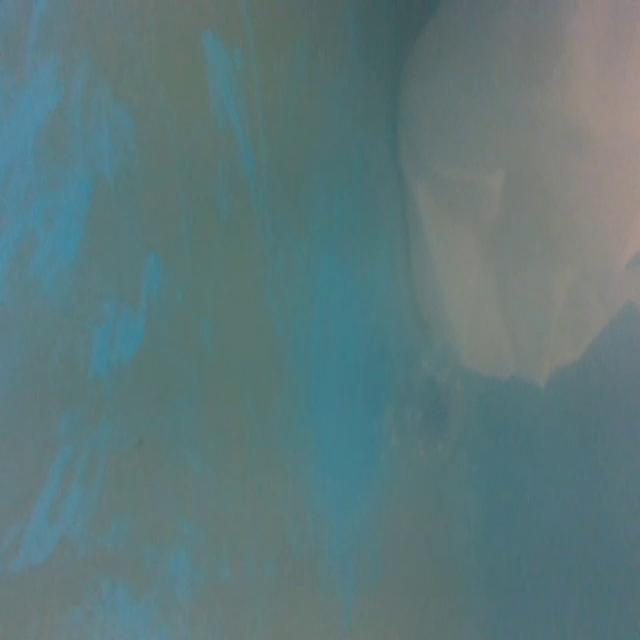plastic bags: (390, 0, 640, 388)
